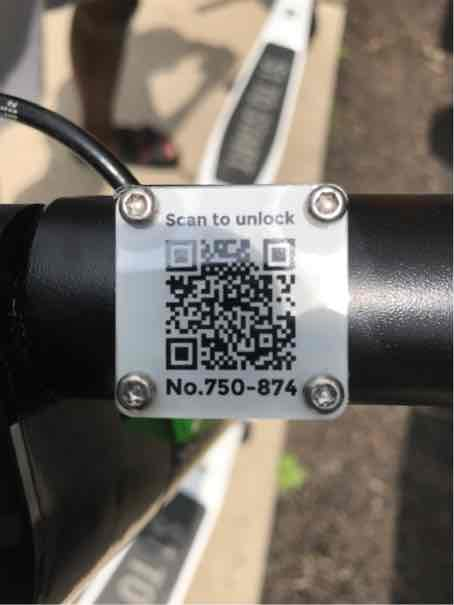scooter: (3, 28, 388, 605)
